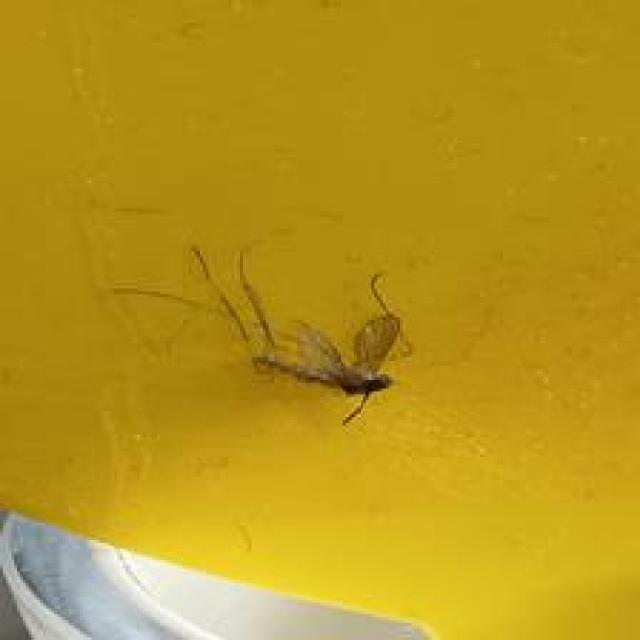Culex: (113, 242, 413, 427)
